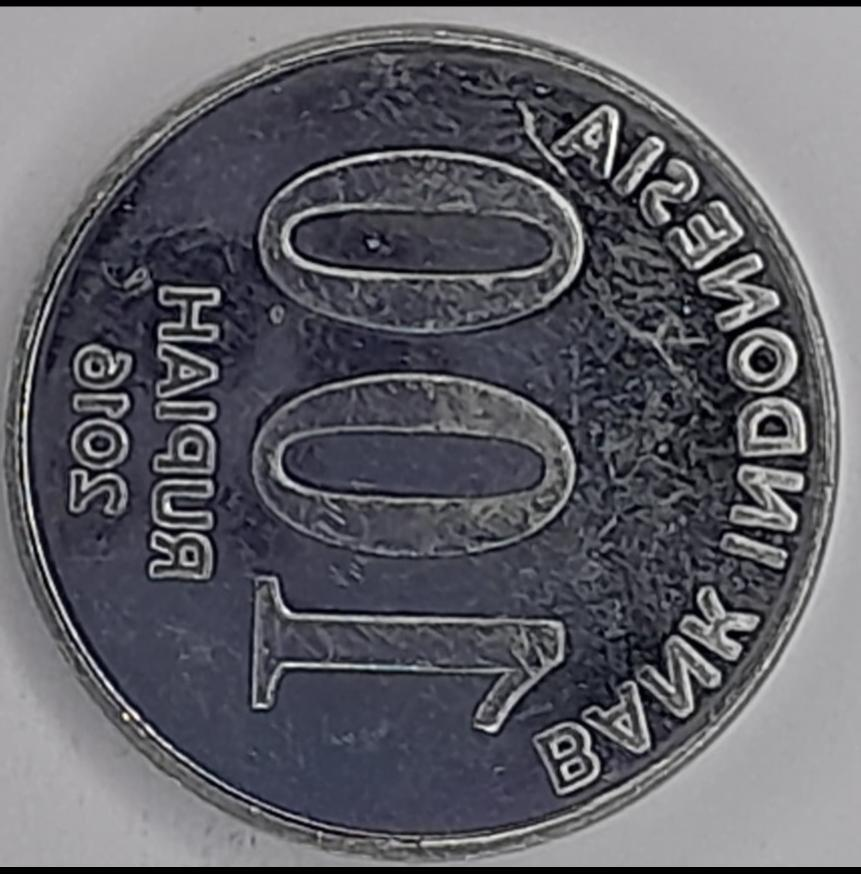coin_100_e2016: (0, 19, 846, 859)
